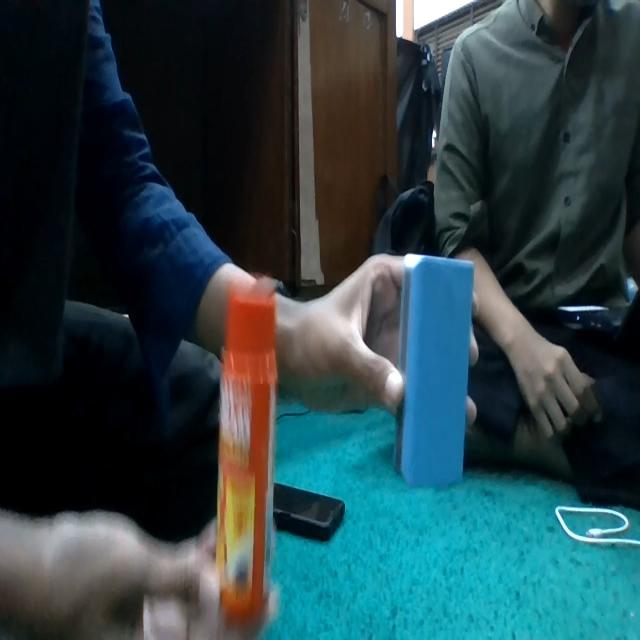Boncabe: (217, 286, 277, 625)
Powerbank: (395, 255, 472, 486)
